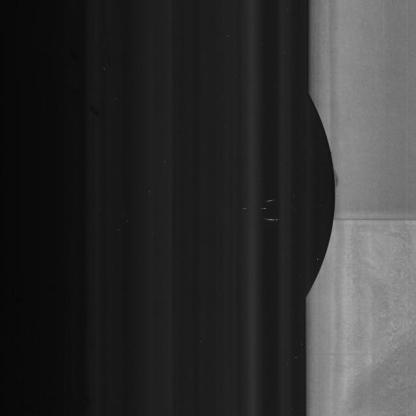welding_line: (331, 210, 416, 236)
